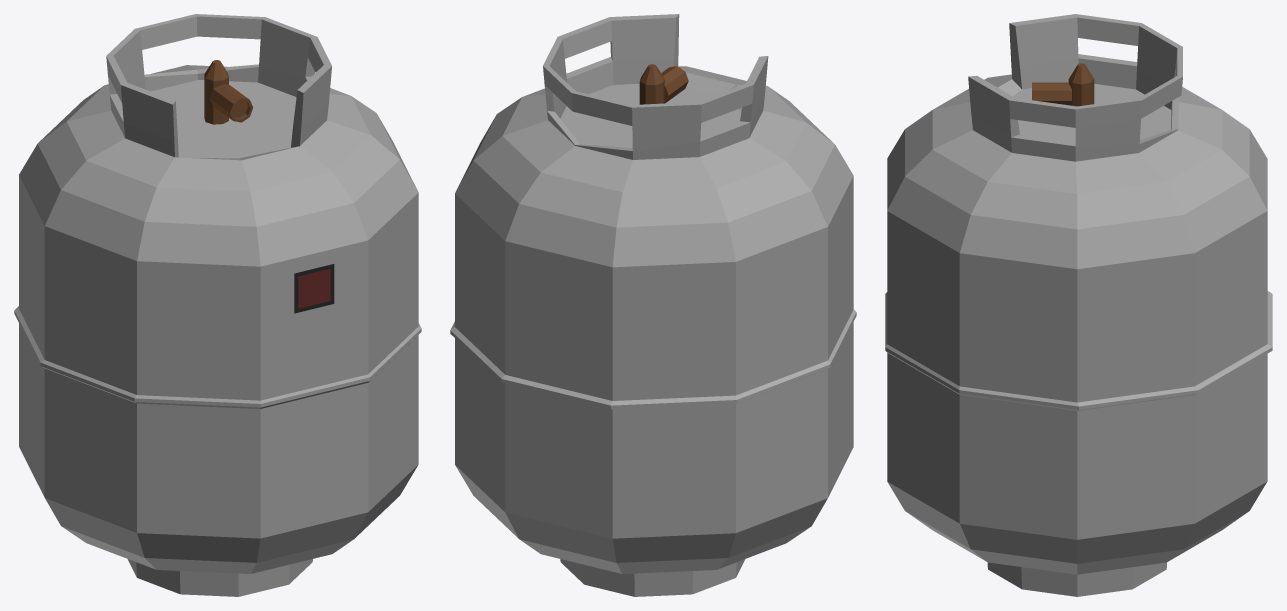
Rendered from propane_tank.glb.
The picture shows the model from 3 angles, left to right: view 1: azimuth 30°, elevation 25°; view 2: azimuth 150°, elevation 25°; view 3: azimuth 270°, elevation 25°; orthographic projection.
Parts seen in each view (by area): view 1: propane_tank; view 2: propane_tank; view 3: propane_tank.
Boxes of the visible parts, x1=… form: propane_tank: x1=14, y1=14, x2=421, y2=596; propane_tank: x1=450, y1=14, x2=856, y2=596; propane_tank: x1=885, y1=14, x2=1272, y2=596.
Size of the model in its own units: 0.3355 by 0.45 by 0.3191.
